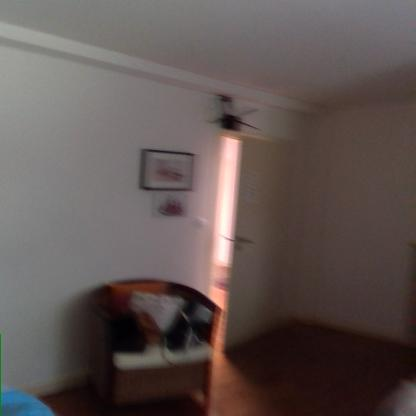semi: (204, 127, 297, 344)
